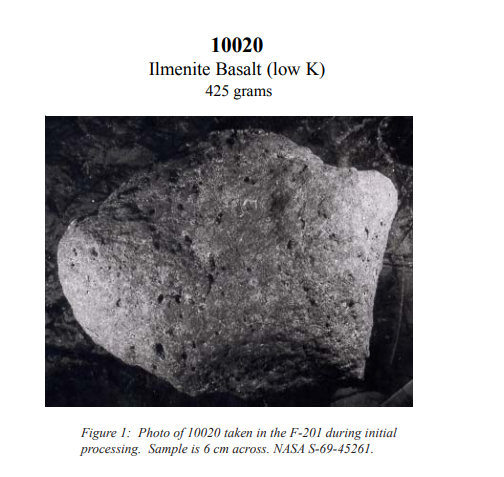Basalt: (46, 114, 412, 401)
